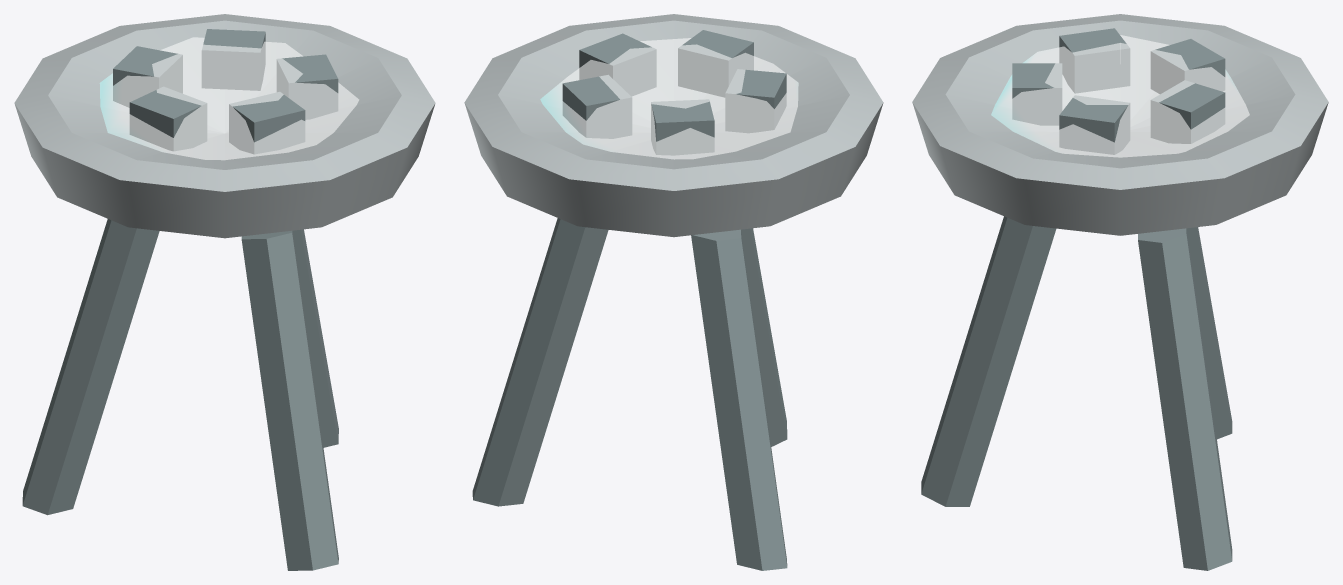
File: sunken-city-and-underwater-ruins-stone-brazier-bad5f410__36973.glb
3 renders of one model, left to right at view 1: azimuth 30°, elevation 25°; view 2: azimuth 150°, elevation 25°; view 3: azimuth 270°, elevation 25°, orthographic.
Parts seen in each view (by area): view 1: stone-brazier; view 2: stone-brazier; view 3: stone-brazier.
Boxes of the visible parts, x1,y1,x2,y2 form: stone-brazier: (14, 14, 435, 570); stone-brazier: (464, 14, 883, 570); stone-brazier: (912, 14, 1328, 570).
Size of the model in its own units: 1 by 1.16 by 1.
